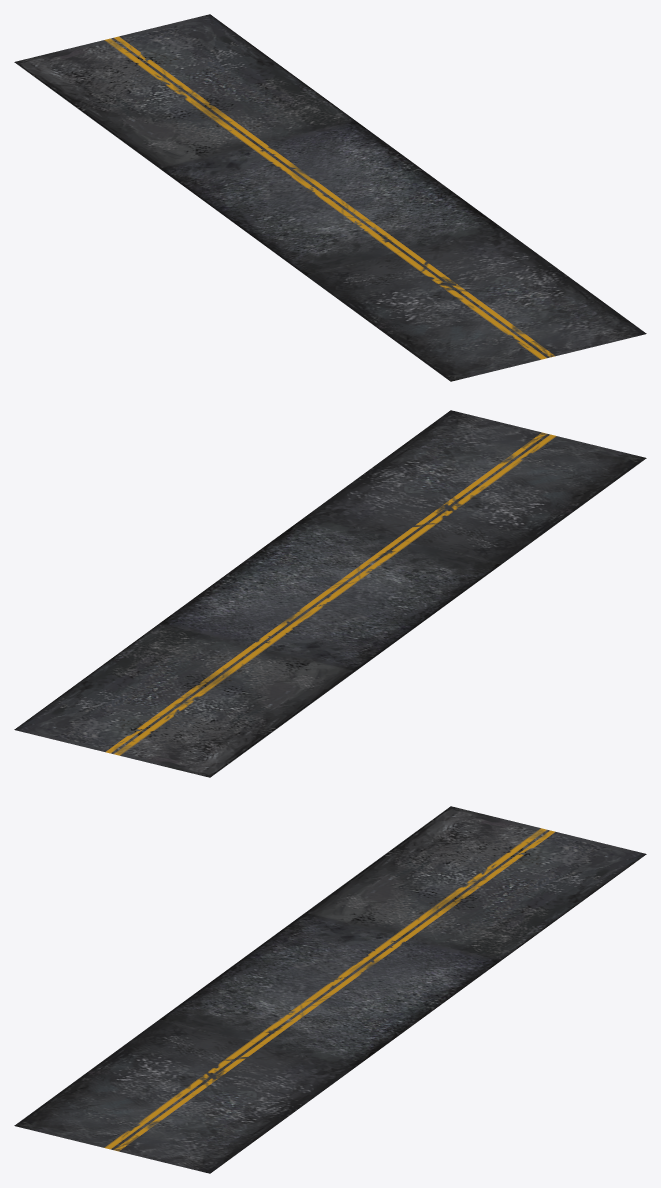
Rendered from road 1.fbx.
3 views of the same model, one above another, from view 1: azimuth 30°, elevation 25°; view 2: azimuth 150°, elevation 25°; view 3: azimuth 330°, elevation 25° (orthographic).
Parts seen in each view (by area): view 1: polySurface840; view 2: polySurface840; view 3: polySurface840.
Part boxes in pixels (left/top/right/bottom): polySurface840: left=14, top=14, right=646, bottom=381; polySurface840: left=14, top=410, right=646, bottom=777; polySurface840: left=14, top=806, right=646, bottom=1173.
Bounding box in the file's own units: 1400 × 9.31e-07 × 5400.
Materials: 1 (1 with a texture image).
